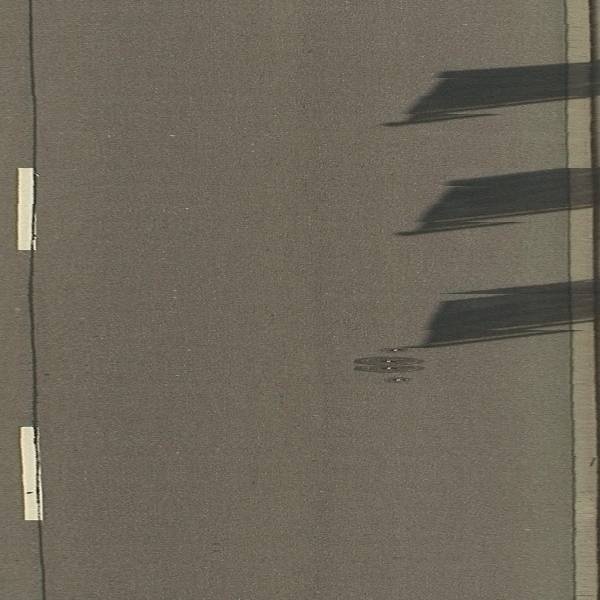road_damage: (339, 344, 437, 386)
